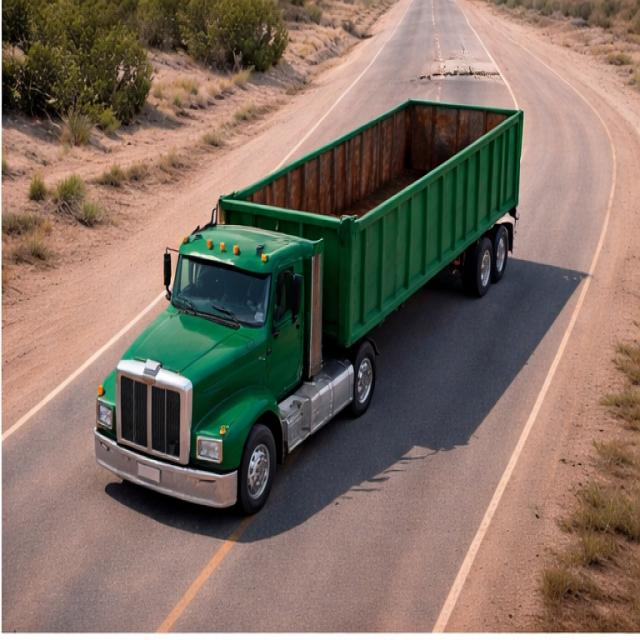Box: (217, 97, 546, 213)
Truck: (89, 91, 553, 512)
